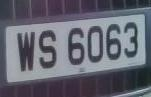0: (86, 20, 105, 69)
3: (123, 17, 141, 67)
6: (66, 22, 87, 72), (104, 20, 124, 67)
S: (36, 24, 60, 77)
W: (15, 26, 38, 80)
